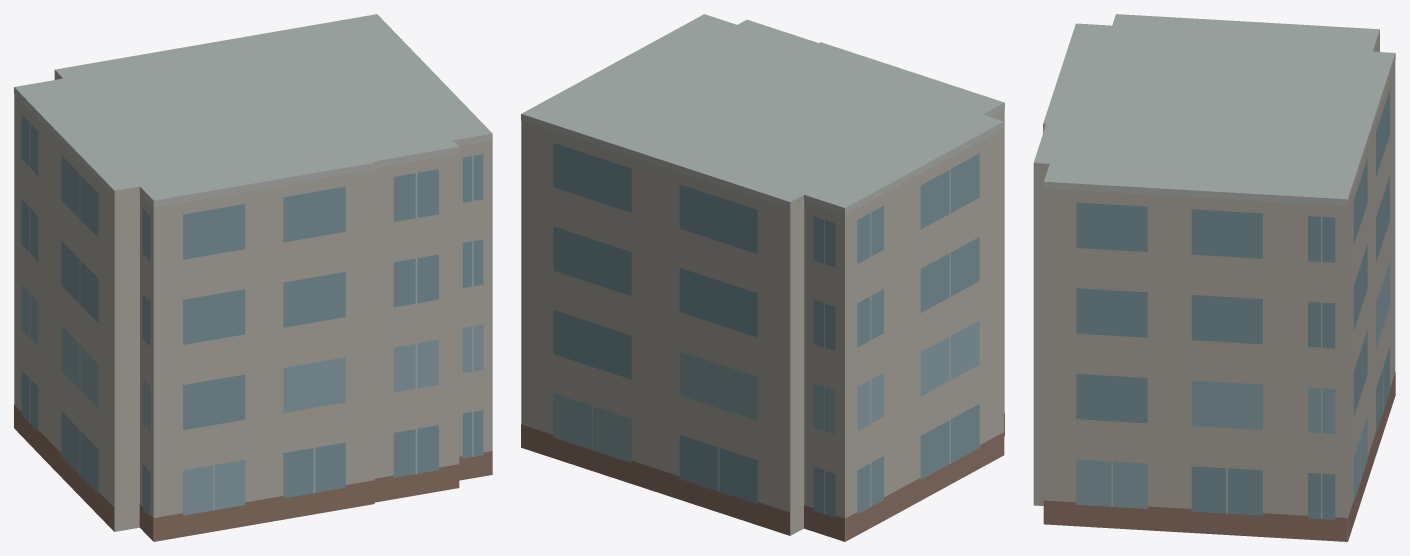
Rendered from survey-upis-32828236.glb.
3 views of the same model, side by side, from view 1: azimuth 30°, elevation 25°; view 2: azimuth 150°, elevation 25°; view 3: azimuth 270°, elevation 25° (orthographic). The views are drawn at different scales.
Visible parts, largest first — view 1: survey-upis-32828236.tmp; view 2: survey-upis-32828236.tmp; view 3: survey-upis-32828236.tmp.
Part boxes in pixels (x1,y1,x2,y2): survey-upis-32828236.tmp: [14, 14, 492, 541]; survey-upis-32828236.tmp: [521, 14, 1004, 541]; survey-upis-32828236.tmp: [1033, 14, 1395, 541].
Bounding box in the file's own units: 14.16 × 12.2 × 11.69.
